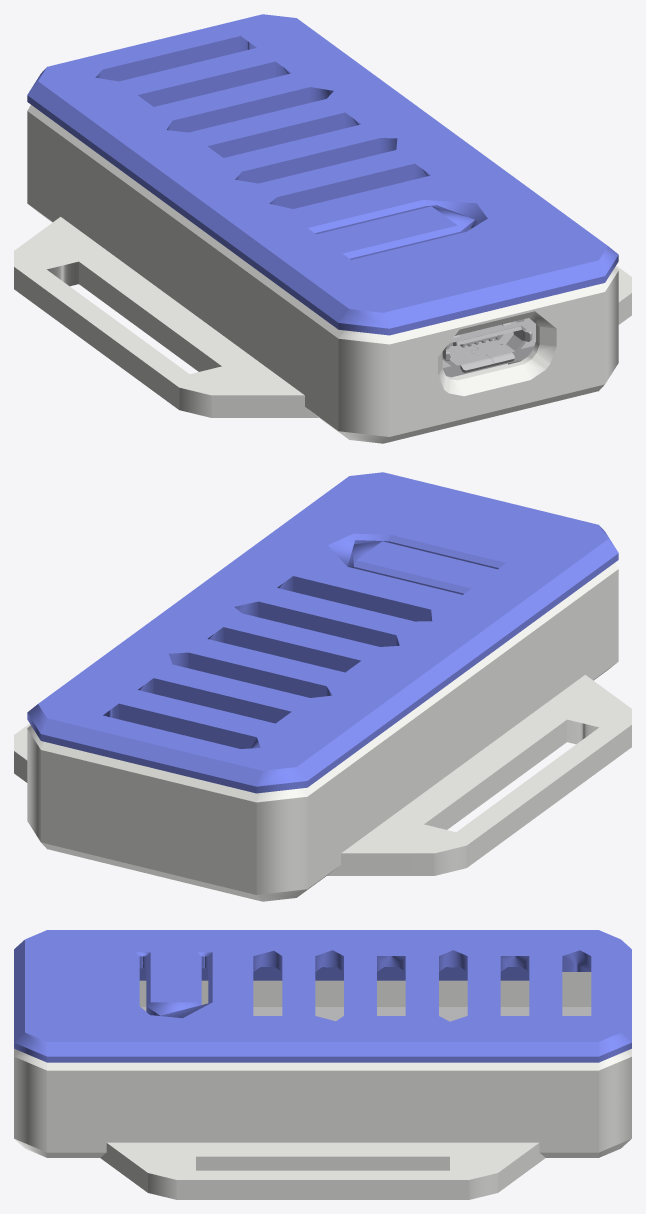
The model's file is ada-6252.glb.
3 renders of one model, top to bottom at view 1: azimuth 30°, elevation 25°; view 2: azimuth 150°, elevation 25°; view 3: azimuth 270°, elevation 25°, orthographic. The views are drawn at different scales.
Visible parts, largest first — view 1: 0.25_0.25_0.9166666666666666_0, 0.9166666666666666_0.9166666666666666_0.9166666666666666_0.8, 0.5833333333333334_0.5833333333333334_0.5833333333333334_0.8; view 2: 0.25_0.25_0.9166666666666666_0, 0.9166666666666666_0.9166666666666666_0.9166666666666666_0.8; view 3: 0.9166666666666666_0.9166666666666666_0.9166666666666666_0.8, 0.25_0.25_0.9166666666666666_0, 0.5833333333333334_0.5833333333333334_0.5833333333333334_0.8.
Boxes of the visible parts, x1=… form: 0.25_0.25_0.9166666666666666_0: x1=27, y1=14, x2=618, y2=335; 0.9166666666666666_0.9166666666666666_0.9166666666666666_0.8: x1=14, y1=105, x2=631, y2=443; 0.5833333333333334_0.5833333333333334_0.5833333333333334_0.8: x1=442, y1=318, x2=535, y2=377; 0.25_0.25_0.9166666666666666_0: x1=27, y1=472, x2=618, y2=793; 0.9166666666666666_0.9166666666666666_0.9166666666666666_0.8: x1=14, y1=563, x2=631, y2=901; 0.9166666666666666_0.9166666666666666_0.9166666666666666_0.8: x1=14, y1=972, x2=631, y2=1199; 0.25_0.25_0.9166666666666666_0: x1=14, y1=930, x2=631, y2=1062; 0.5833333333333334_0.5833333333333334_0.5833333333333334_0.8: x1=141, y1=1007, x2=591, y2=1021.
Bounding box in the file's own units: 4.2 × 1.16 × 5.6.
